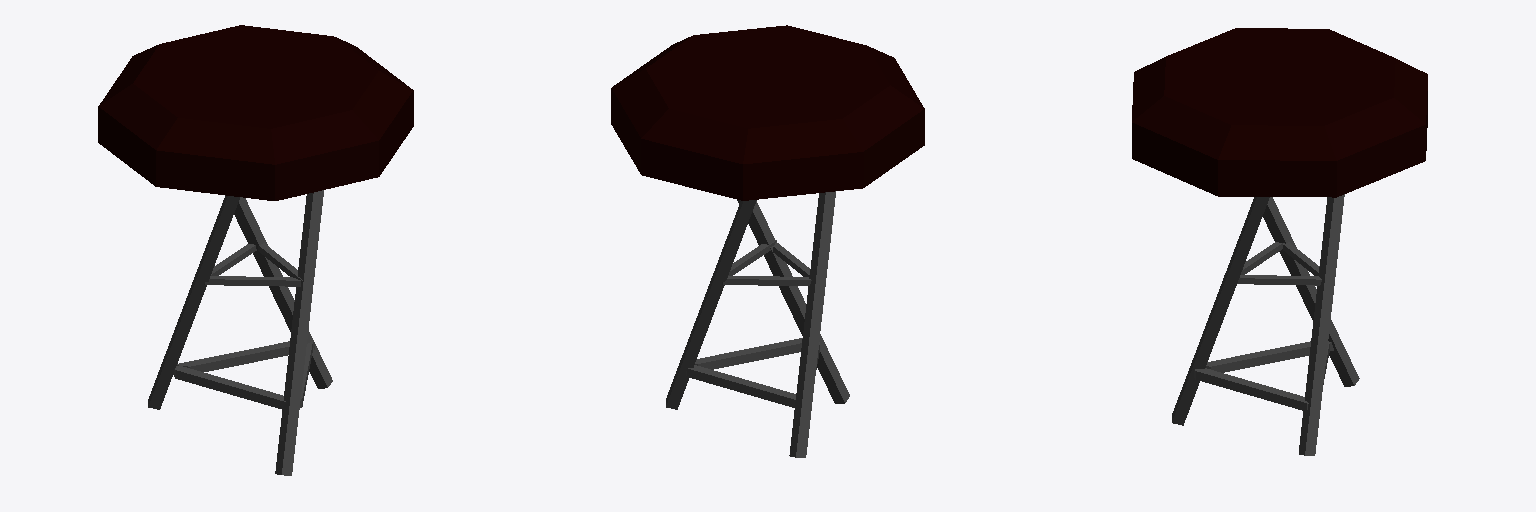
The model's file is chair.obj.
3 renders of one model, left to right at view 1: azimuth 30°, elevation 25°; view 2: azimuth 150°, elevation 25°; view 3: azimuth 270°, elevation 25°, orthographic.
Parts seen in each view (by area): view 1: Cube.029_Cube.041; view 2: Cube.029_Cube.041; view 3: Cube.029_Cube.041.
Boxes of the visible parts, x1=… form: Cube.029_Cube.041: x1=98, y1=25, x2=413, y2=475; Cube.029_Cube.041: x1=611, y1=25, x2=924, y2=457; Cube.029_Cube.041: x1=1132, y1=28, x2=1427, y2=455.
Size of the model in its own units: 1.93 by 2.57 by 1.93.